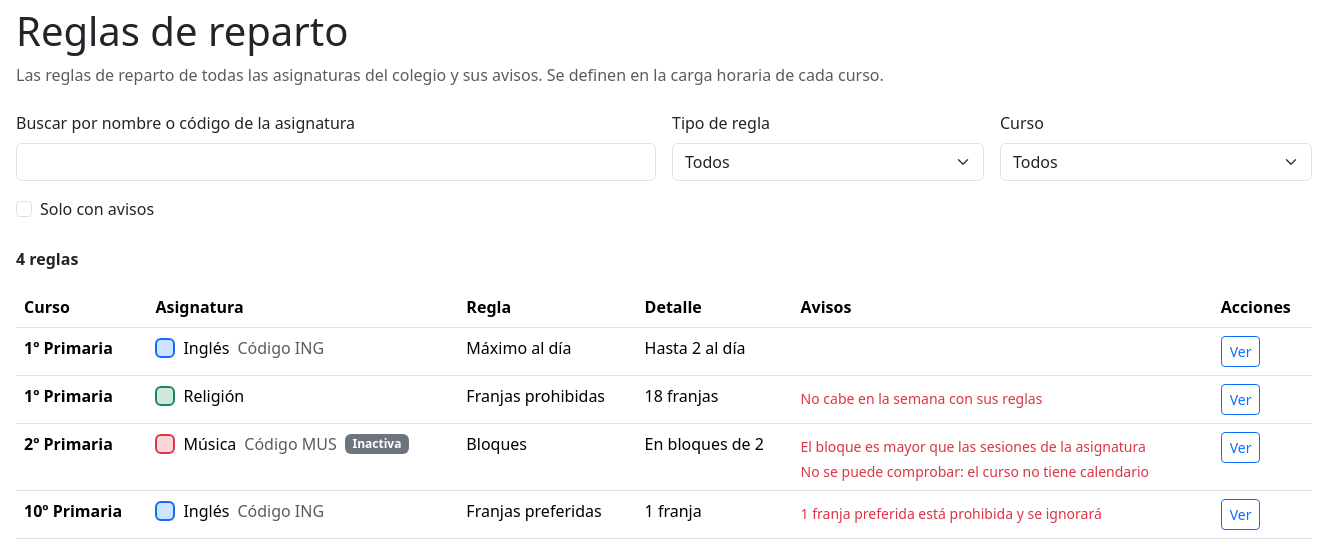
it: ConstraintsPage › on a wide screen › filters › filters by type
Select "Franjas prohibidas" in the dropdown labelled "Tipo de regla" at (828, 162), box [672,143,984,181]
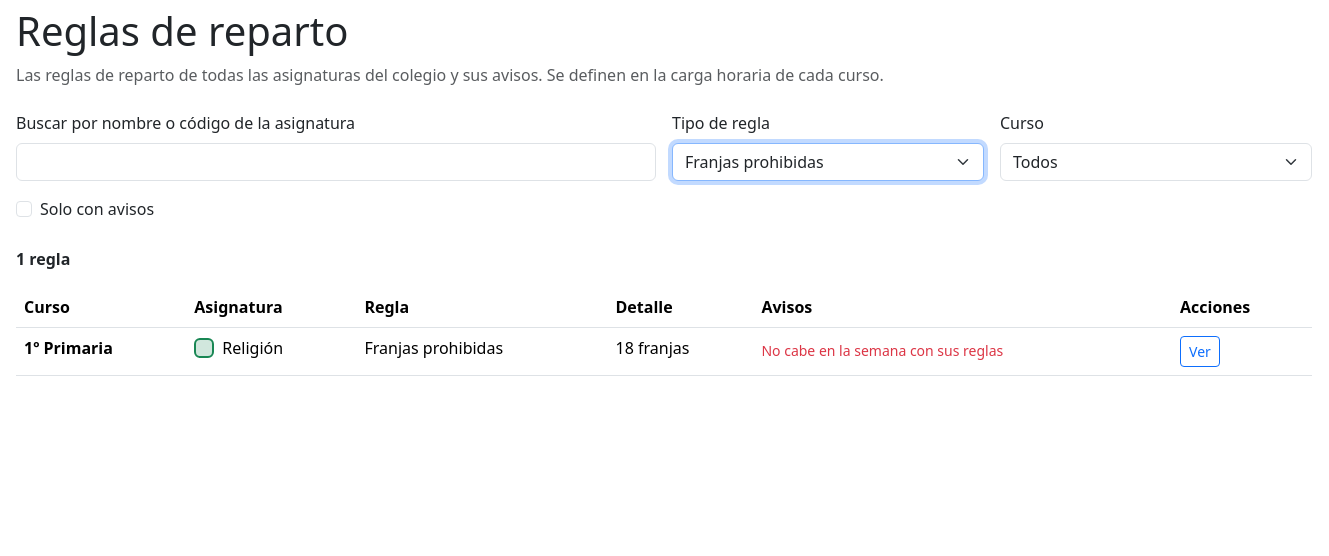
Expected: the message with test id "constraints-count" reads "1 regla", [16,248,70,270]
